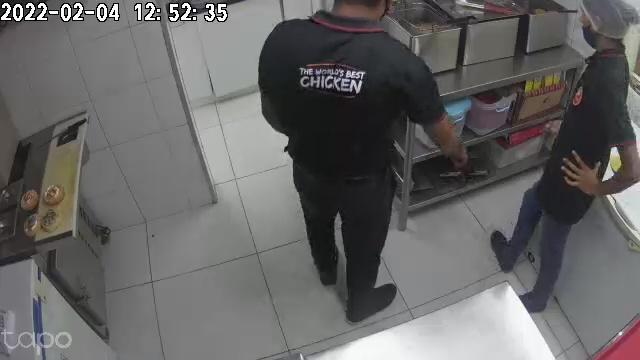no_gloves: (565, 150, 602, 196)
